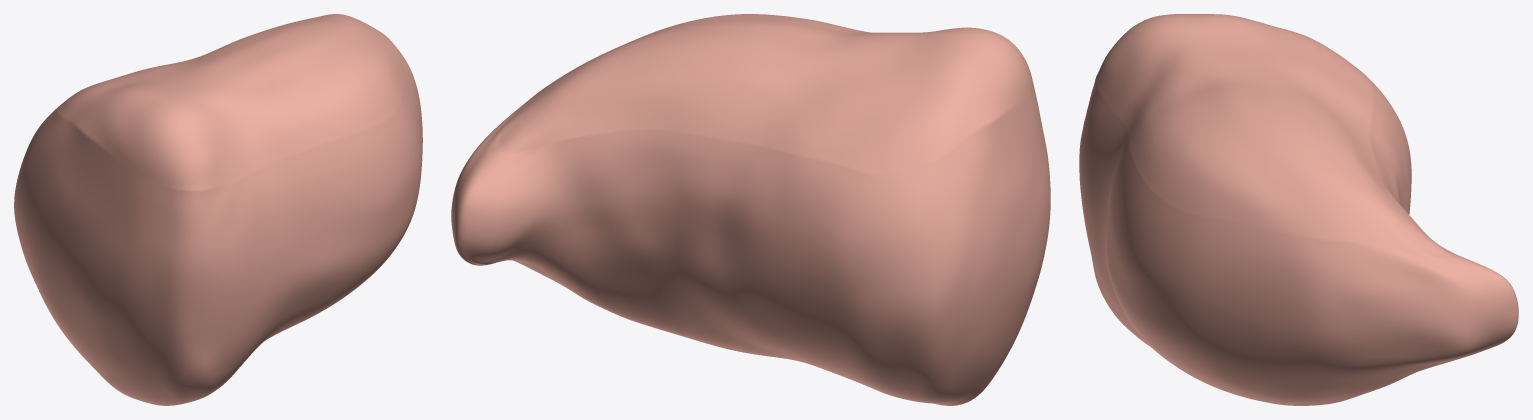
The model's file is Útero.fbx.
3 renders of one model, left to right at view 1: azimuth 30°, elevation 25°; view 2: azimuth 150°, elevation 25°; view 3: azimuth 270°, elevation 25°, orthographic. The views are drawn at different scales.
Parts seen in each view (by area): view 1: Cube; view 2: Cube; view 3: Cube.
Part boxes in pixels (box(x1,y1,x2,y2)): Cube: box(14, 14, 422, 405); Cube: box(451, 14, 1050, 405); Cube: box(1079, 14, 1518, 405).
Size of the model in its own units: 2.74 by 1.97 by 2.4.
